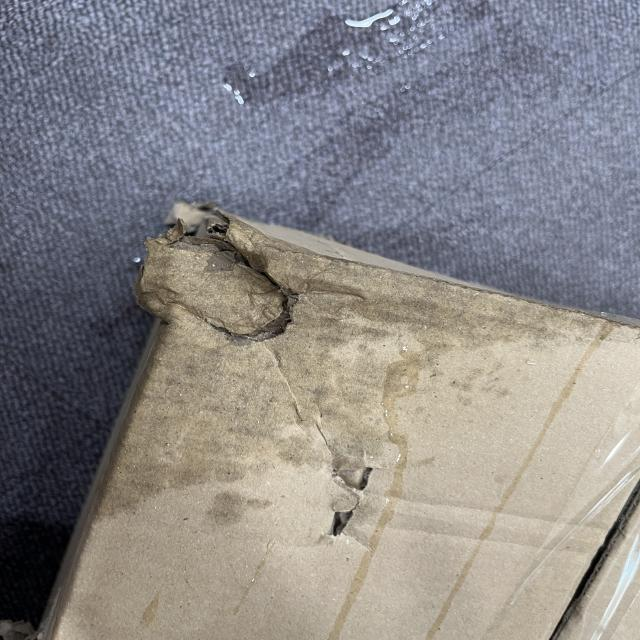wet: (123, 233, 591, 529)
